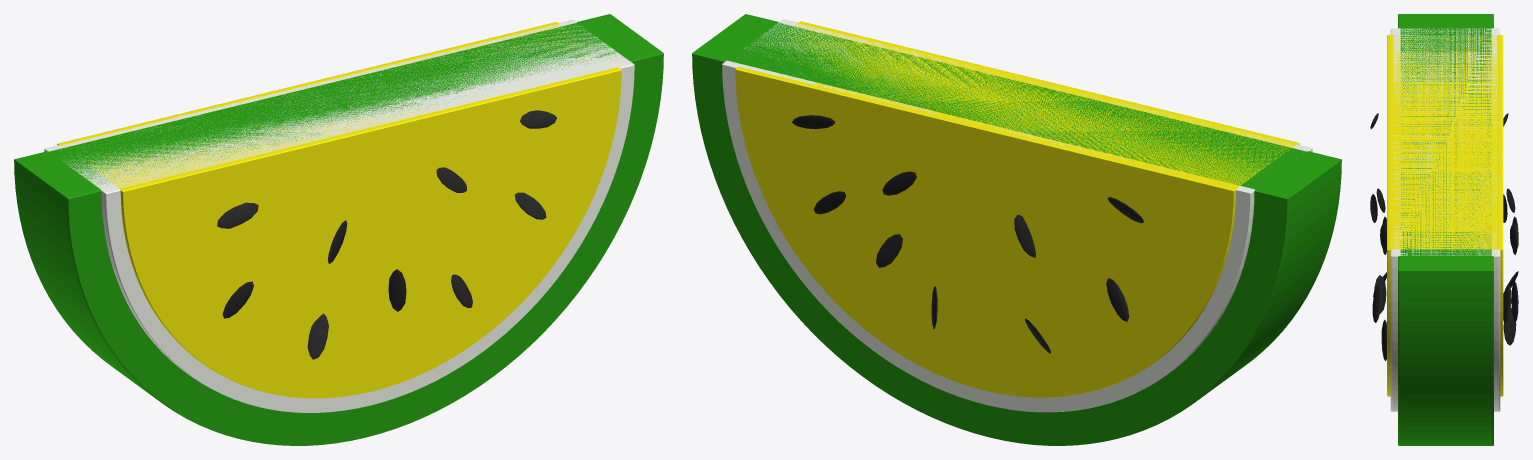
The model's file is watermelonYellow.glb.
3 renders of one model, left to right at view 1: azimuth 30°, elevation 25°; view 2: azimuth 150°, elevation 25°; view 3: azimuth 270°, elevation 25°, orthographic. The views are drawn at different scales.
Parts seen in each view (by area): view 1: Flesh.001, Rind.001, Pith.001, SeedProto.034, SeedProto.035; view 2: Flesh.001, Rind.001, Pith.001; view 3: Rind.001, Flesh.001, Pith.001, SeedProto.022, SeedProto.033, SeedProto.025, SeedProto.027, SeedProto.036, SeedProto.030, SeedProto.028, SeedProto.037, SeedProto.029.
Boxes of the visible parts, x1,y1,x2,y2 form: Flesh.001: [57, 22, 621, 398]; Rind.001: [14, 14, 663, 445]; Pith.001: [44, 19, 634, 412]; SeedProto.034: [217, 202, 258, 228]; SeedProto.035: [307, 313, 328, 359]; Flesh.001: [735, 21, 1299, 397]; Rind.001: [692, 14, 1341, 445]; Pith.001: [722, 19, 1312, 412]; Rind.001: [1398, 14, 1493, 445]; Flesh.001: [1387, 35, 1503, 396]; Pith.001: [1390, 28, 1500, 411]; SeedProto.022: [1503, 308, 1516, 345]; SeedProto.033: [1372, 284, 1381, 322]; SeedProto.025: [1503, 284, 1511, 322]; SeedProto.027: [1511, 281, 1518, 322]; SeedProto.036: [1374, 275, 1386, 313]; SeedProto.030: [1381, 319, 1386, 361]; SeedProto.028: [1510, 223, 1518, 251]; SeedProto.037: [1370, 194, 1377, 222]; SeedProto.029: [1380, 224, 1386, 251].
Size of the model in its own units: 3.2 by 1.6 by 0.7821.
